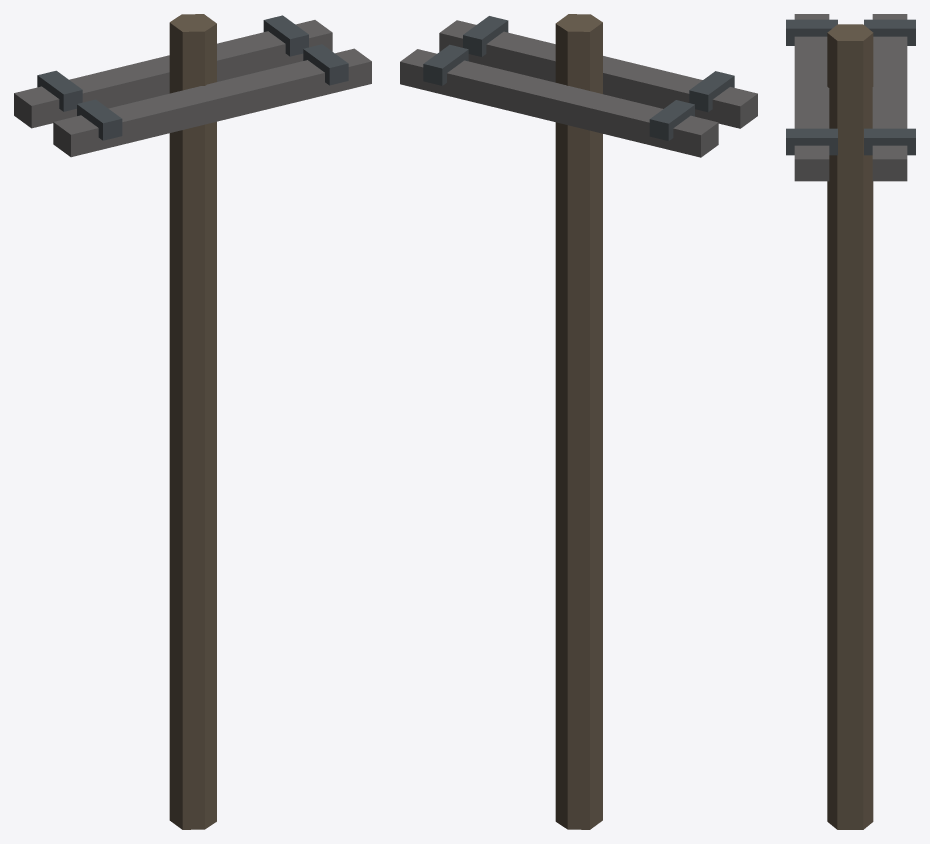
Rendered from SM_Prop_Powerpole_01.fbx.
The picture shows the model from 3 angles, left to right: view 1: azimuth 30°, elevation 25°; view 2: azimuth 150°, elevation 25°; view 3: azimuth 270°, elevation 25°; orthographic projection.
Visible parts, largest first — view 1: SM_Prop_Powerpole_01; view 2: SM_Prop_Powerpole_01; view 3: SM_Prop_Powerpole_01.
Part boxes in pixels (x1,y1,x2,y2): SM_Prop_Powerpole_01: (14,14,371,829); SM_Prop_Powerpole_01: (400,14,757,829); SM_Prop_Powerpole_01: (786,14,915,829).
Size of the model in its own units: 19.36 by 49.04 by 7.32.
